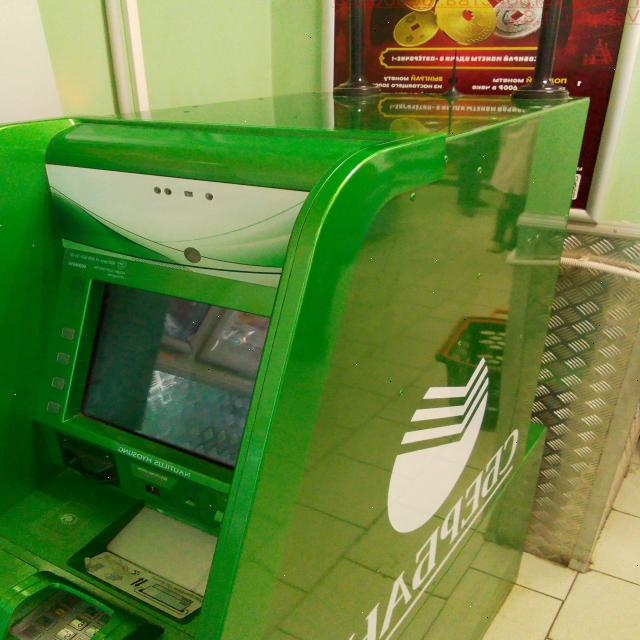bank: (0, 99, 591, 640)
